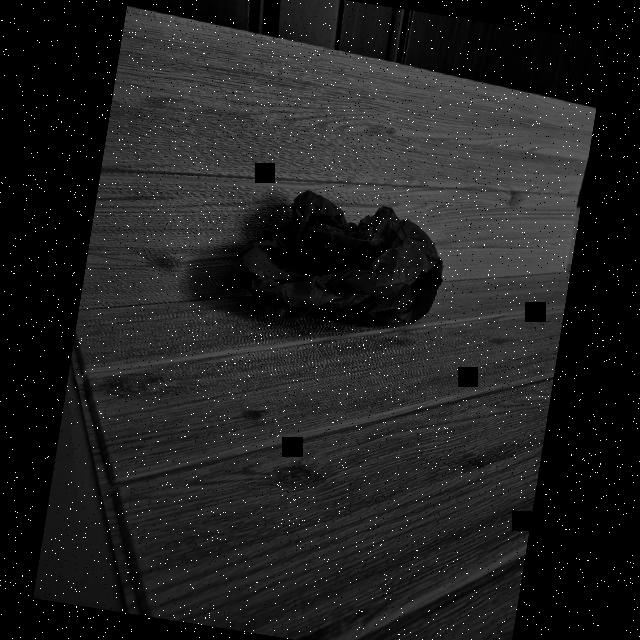plastic_bag: (219, 172, 456, 346)
